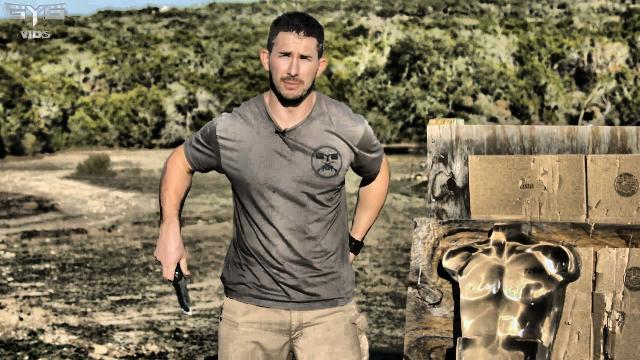knife: (154, 244, 198, 322)
